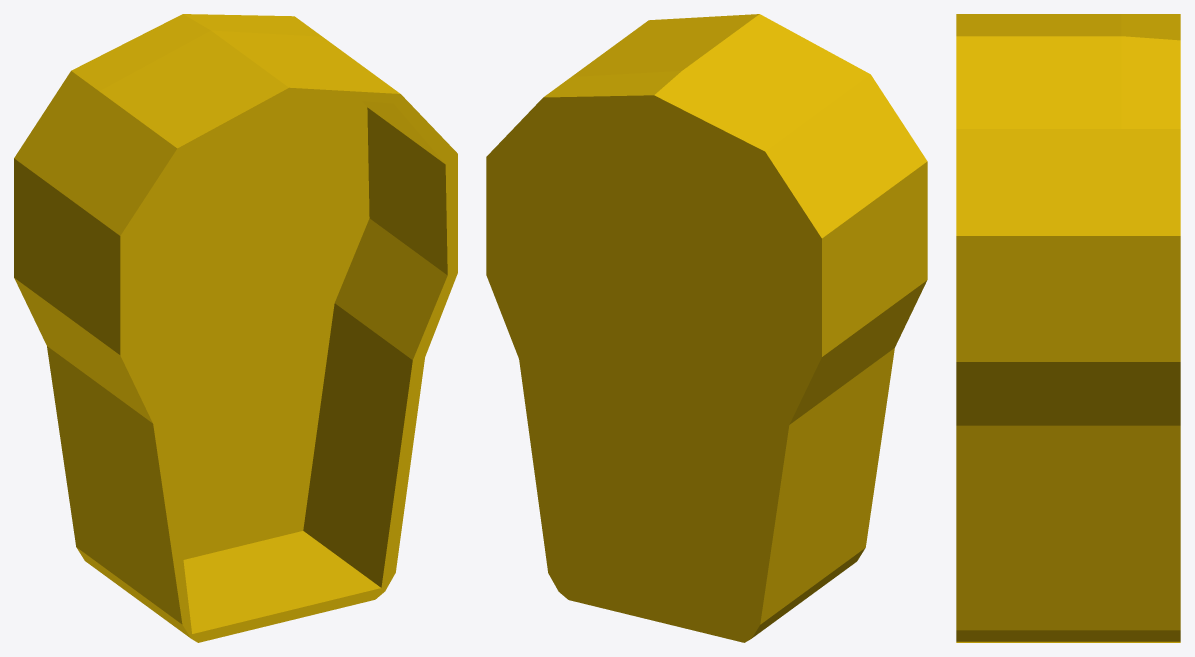
Rendered from Sarcophagus.fbx.
The picture shows the model from 3 angles, left to right: view 1: azimuth 30°, elevation 25°; view 2: azimuth 150°, elevation 25°; view 3: azimuth 270°, elevation 25°; orthographic projection. The views are drawn at different scales.
Parts seen in each view (by area): view 1: pCube1; view 2: pCube1; view 3: pCube1.
Part boxes in pixels (box(x1,y1,x2,y2)): pCube1: box(14, 14, 457, 642); pCube1: box(486, 14, 927, 642); pCube1: box(956, 14, 1180, 642).
Size of the model in its own units: 1.07 by 1.61 by 0.5815.
